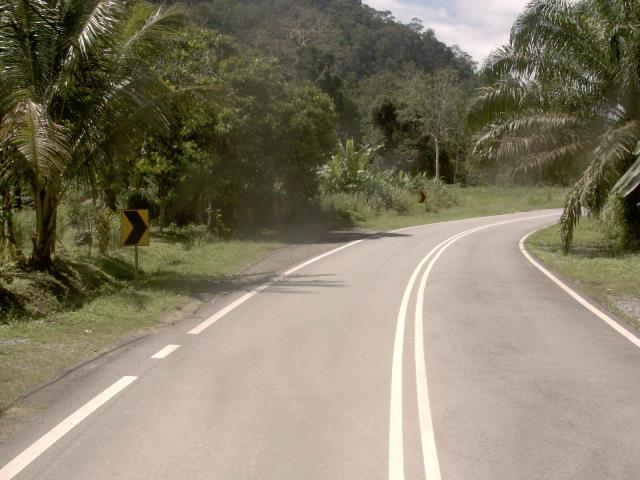traffic_sign: (110, 203, 157, 254)
